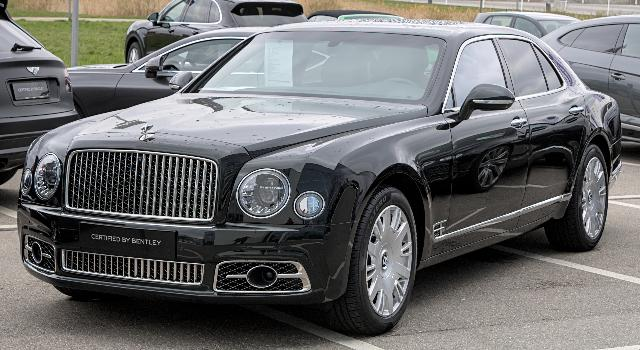bentley: (18, 18, 622, 338)
